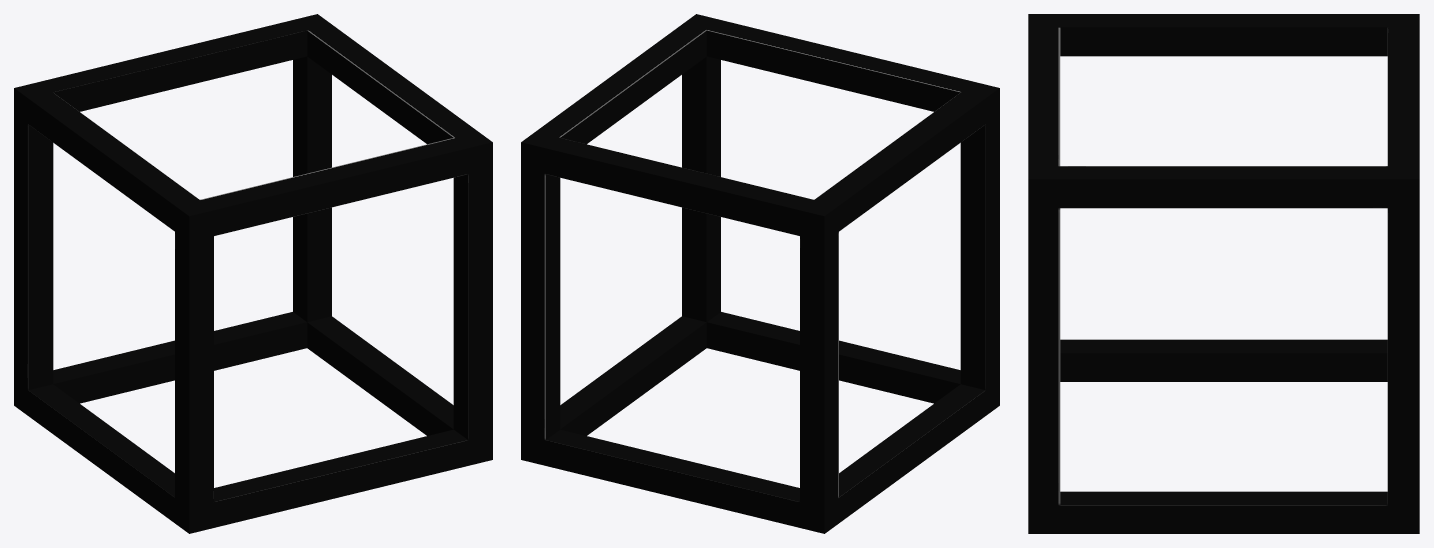
File: nullBlock.obj
3 renders of one model, left to right at view 1: azimuth 30°, elevation 25°; view 2: azimuth 150°, elevation 25°; view 3: azimuth 270°, elevation 25°, orthographic. The views are drawn at different scales.
Visible parts, largest first — view 1: Cube; view 2: Cube; view 3: Cube.
Boxes of the visible parts, bbox=[...] form: Cube: bbox=[14, 14, 492, 533]; Cube: bbox=[521, 14, 999, 533]; Cube: bbox=[1028, 14, 1419, 533].
Bounding box in the file's own units: 1 × 1 × 1.
Materials: 1 (1 with a texture image).
